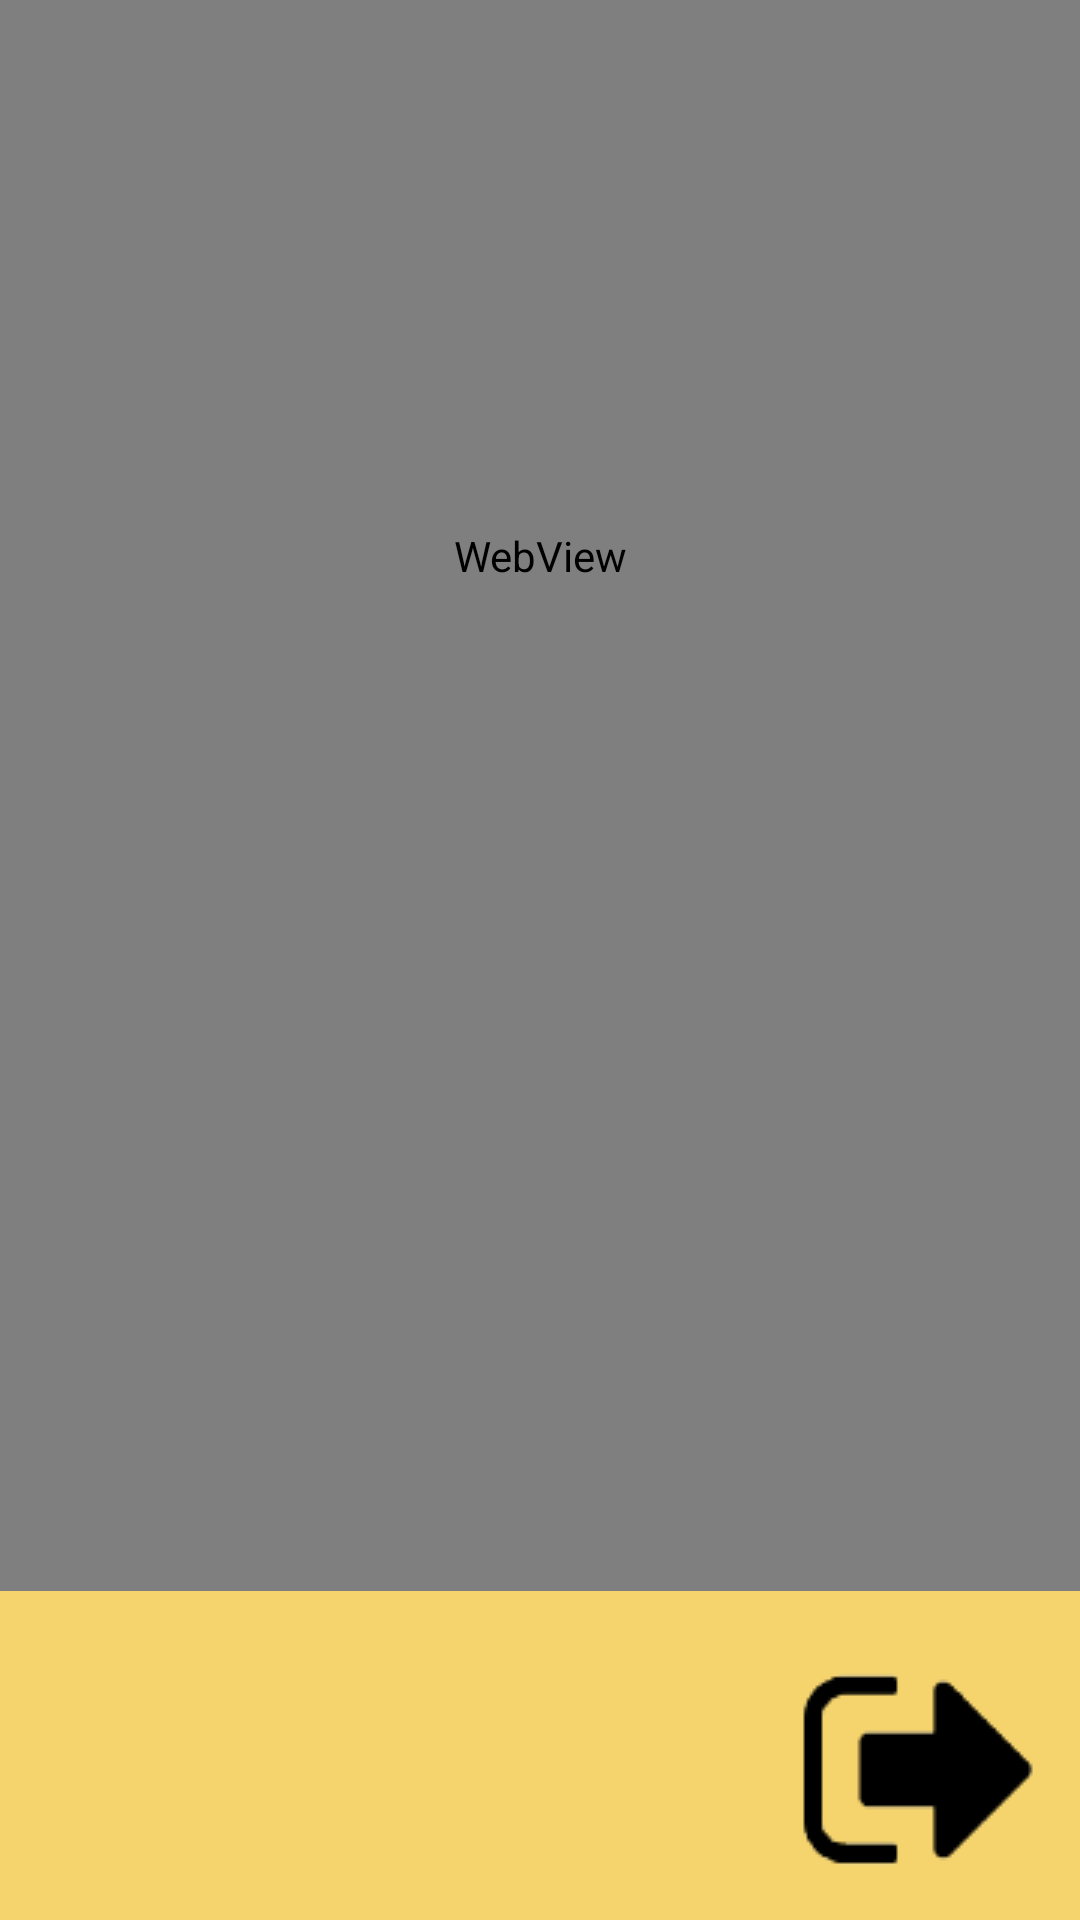

Screen size 1080px x 1920px. Icon name, then its box in pixels as bbox=(x1, y1, x2, y2):
quit: bbox=(803, 1675, 1033, 1864)
